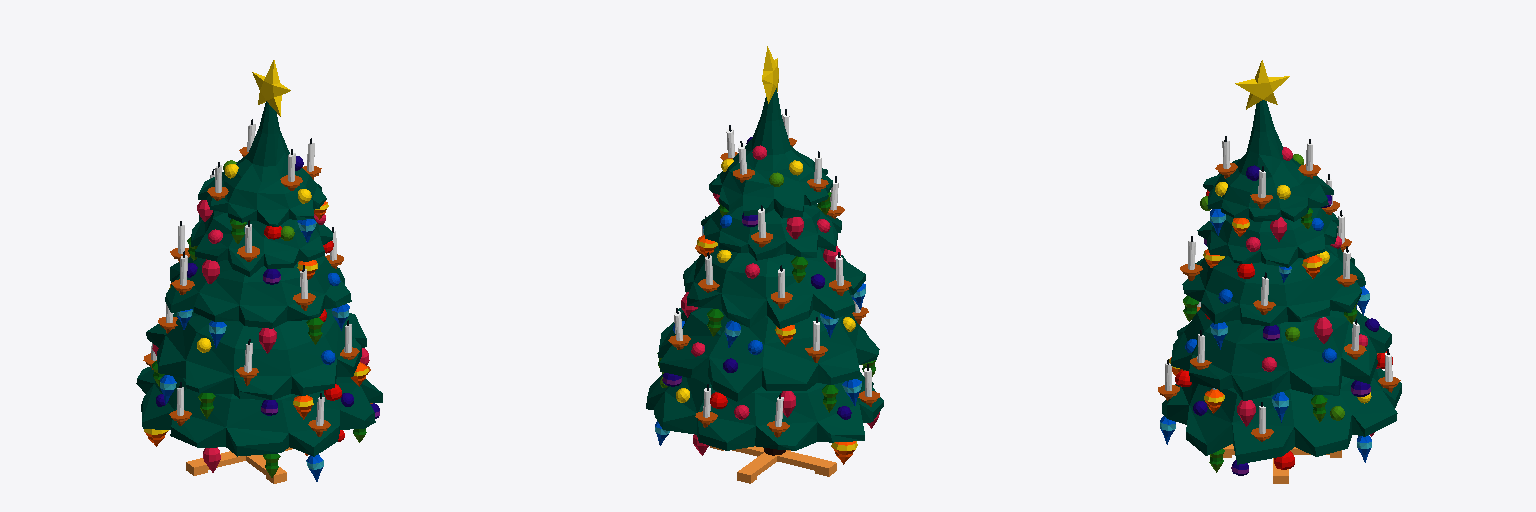
The picture shows the model from 3 angles: view 1: azimuth 30°, elevation 25°; view 2: azimuth 150°, elevation 25°; view 3: azimuth 270°, elevation 25°; orthographic projection.
Visible parts, largest first — view 1: group[number redacted], group[number redacted]; view 2: group[number redacted], group[number redacted]; view 3: group[number redacted], group[number redacted].
Boxes of the visible parts, <box> form: group[number redacted]: <box>136,101,382,483</box>; group[number redacted]: <box>252,60,290,116</box>; group[number redacted]: <box>646,88,883,483</box>; group[number redacted]: <box>762,46,778,103</box>; group[number redacted]: <box>1158,100,1401,483</box>; group[number redacted]: <box>1235,60,1289,109</box>.
Size of the model in its own units: 2.53 by 4.62 by 2.54.